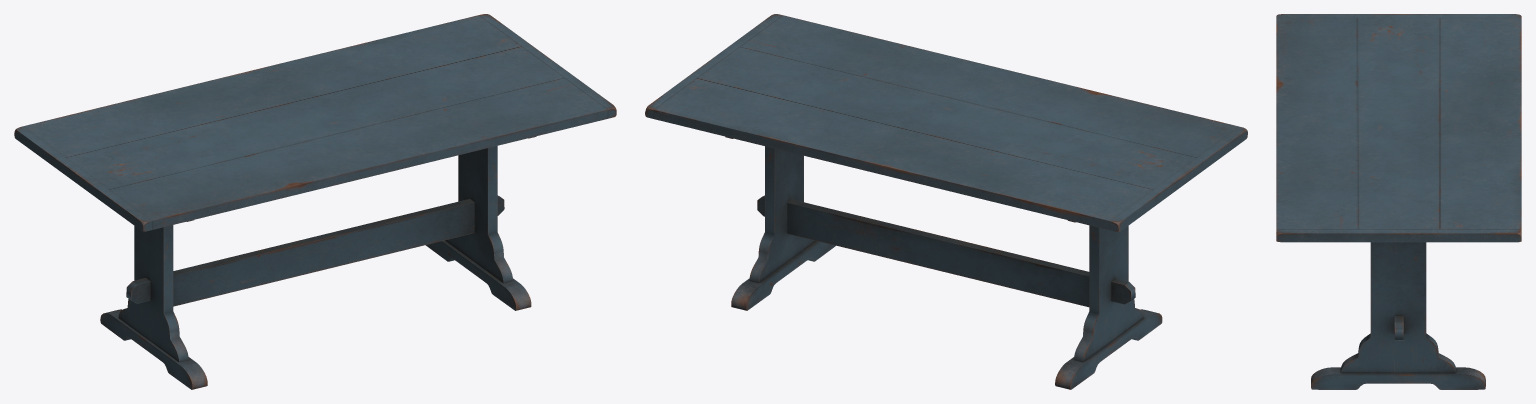
File: painted_wooden_table.glb
3 views of the same model, side by side, from view 1: azimuth 30°, elevation 25°; view 2: azimuth 150°, elevation 25°; view 3: azimuth 270°, elevation 25° (orthographic). The views are drawn at different scales.
Visible parts, largest first — view 1: painted_wooden_table; view 2: painted_wooden_table; view 3: painted_wooden_table.
Boxes of the visible parts, left/top/right/bottom form: painted_wooden_table: left=14, top=14, right=616, bottom=389; painted_wooden_table: left=645, top=14, right=1247, bottom=389; painted_wooden_table: left=1276, top=14, right=1521, bottom=389.
Bounding box in the file's own units: 2.41 × 0.9586 × 1.14.
1 material, 1 textured.
